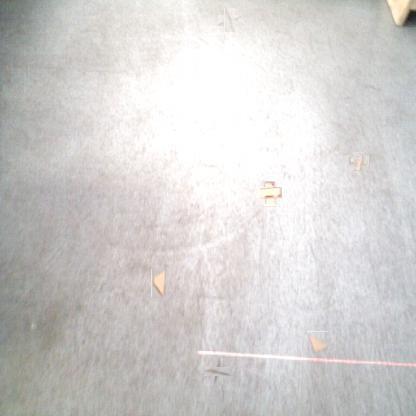dirty: (308, 331, 330, 354), (151, 269, 166, 297), (261, 184, 279, 203), (352, 153, 366, 169)
mark: (209, 362, 228, 380), (221, 12, 239, 29), (6, 76, 10, 83)
